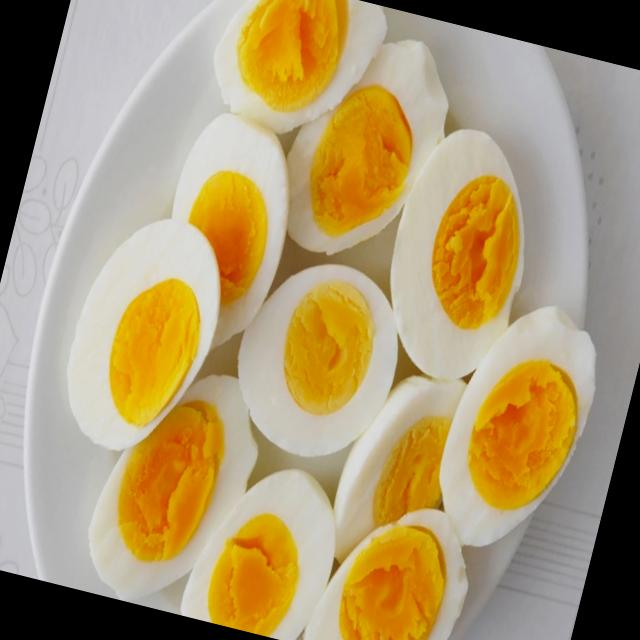trung luoc: (88, 375, 256, 599), (439, 307, 595, 546), (66, 219, 218, 450), (286, 41, 447, 255), (390, 129, 522, 378), (237, 264, 396, 457), (172, 113, 288, 346), (180, 469, 335, 640), (333, 375, 465, 563), (214, 0, 385, 132), (303, 508, 467, 640)
